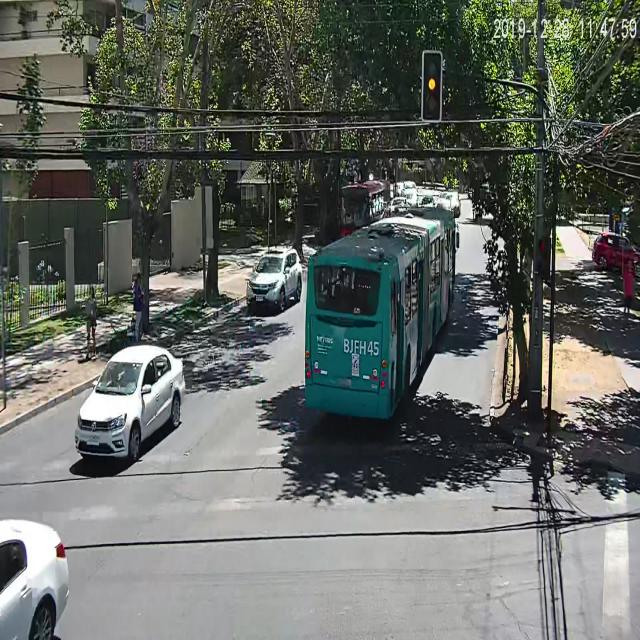AB: (300, 202, 461, 430)
